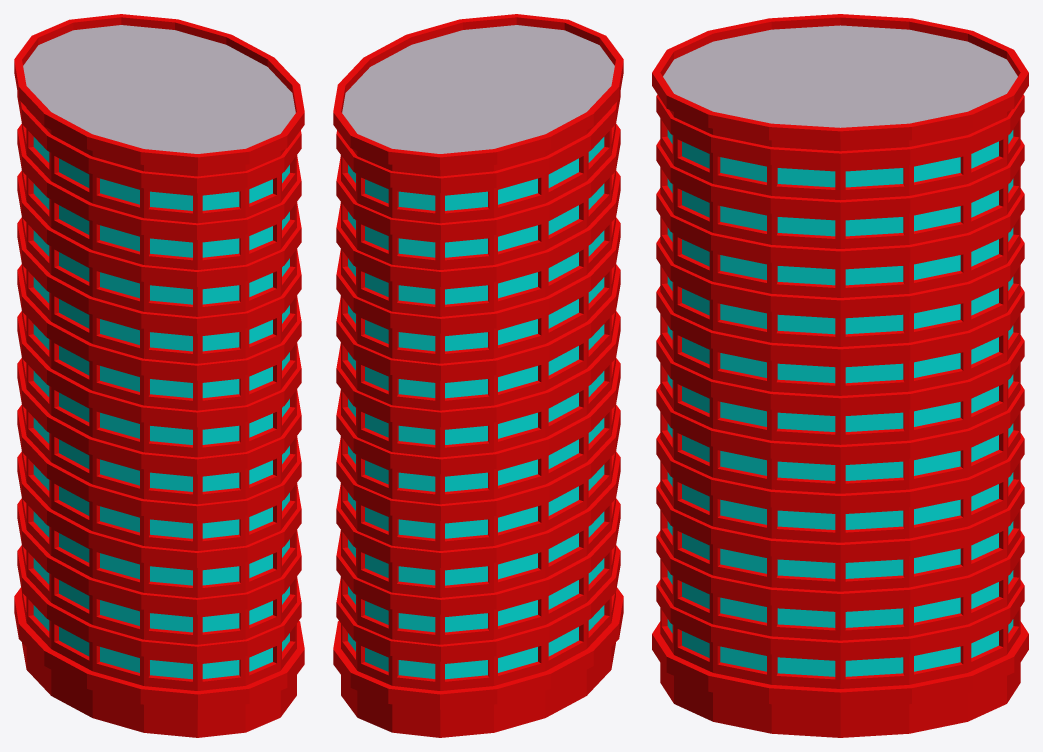
File: predioOval_ATT.fbx
The picture shows the model from 3 angles, left to right: view 1: azimuth 30°, elevation 25°; view 2: azimuth 150°, elevation 25°; view 3: azimuth 270°, elevation 25°; orthographic projection. The views are drawn at different scales.
Visible parts, largest first — view 1: predio.001, terraco.002, base; view 2: predio.001, terraco.002, base; view 3: predio.001, terraco.002, base.
Part boxes in pixels (x1=…): predio.001: x1=17, y1=92, x2=301, y2=690; terraco.002: x1=14, y1=14, x2=304, y2=176; base: x1=14, y1=587, x2=304, y2=737; predio.001: x1=336, y1=92, x2=620, y2=690; terraco.002: x1=333, y1=14, x2=623, y2=176; base: x1=333, y1=587, x2=623, y2=737; predio.001: x1=656, y1=94, x2=1024, y2=688; terraco.002: x1=652, y1=14, x2=1028, y2=151; base: x1=652, y1=621, x2=1028, y2=737.
Bounding box in the file's own units: 305 × 739 × 413.
